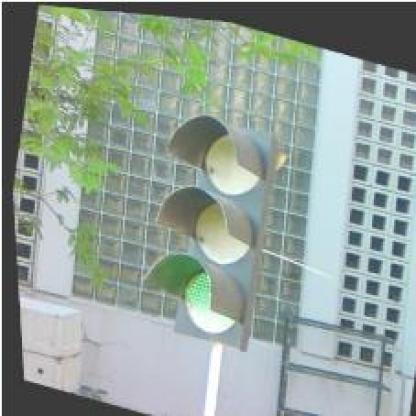green: (137, 102, 284, 349)
